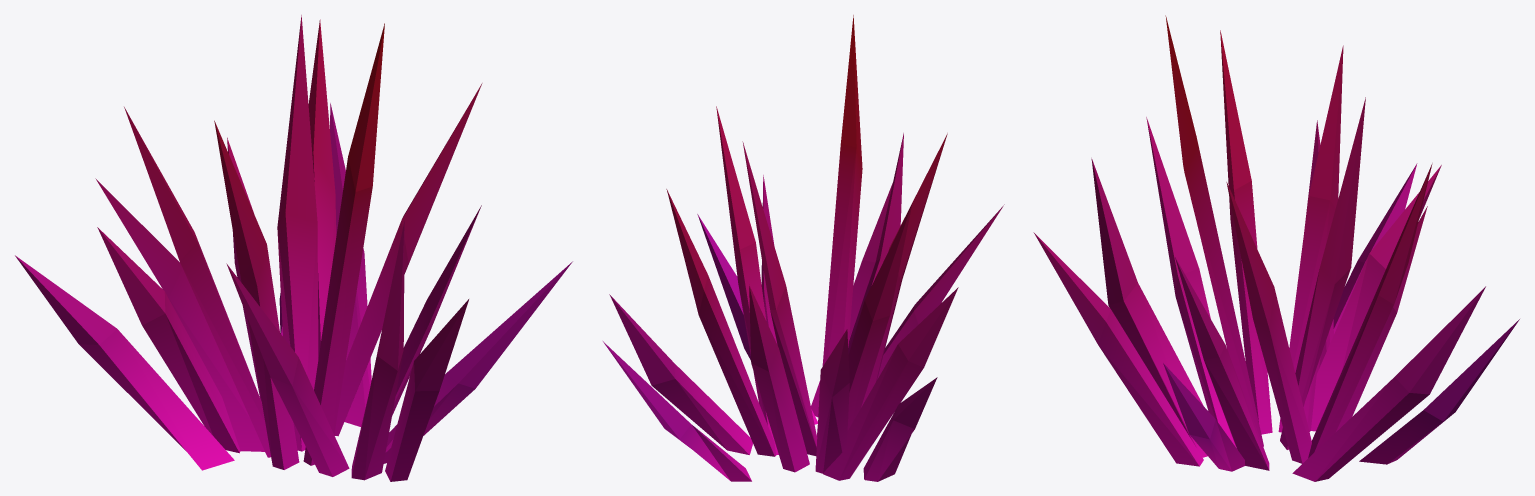
Rendered from Plant_3.fbx.
3 views of the same model, side by side, from view 1: azimuth 30°, elevation 25°; view 2: azimuth 150°, elevation 25°; view 3: azimuth 270°, elevation 25° (orthographic). The views are drawn at different scales.
Parts seen in each view (by area): view 1: SM_Plant_Grass_02; view 2: SM_Plant_Grass_02; view 3: SM_Plant_Grass_02.
Part boxes in pixels (box(x1,y1,x2,y2)): SM_Plant_Grass_02: box(15, 15, 572, 481); SM_Plant_Grass_02: box(603, 15, 1004, 481); SM_Plant_Grass_02: box(1033, 15, 1519, 481).
Size of the model in its own units: 134 by 142 by 144.
